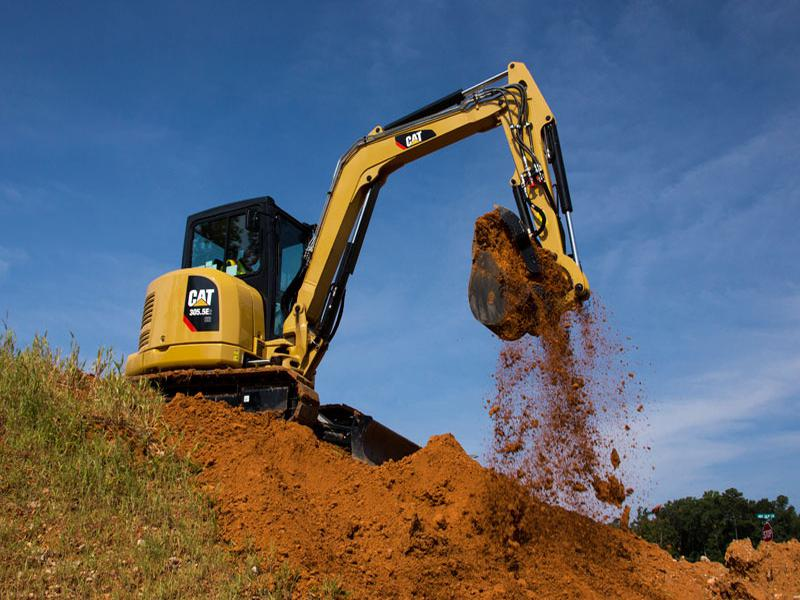shovel: (115, 55, 597, 427)
